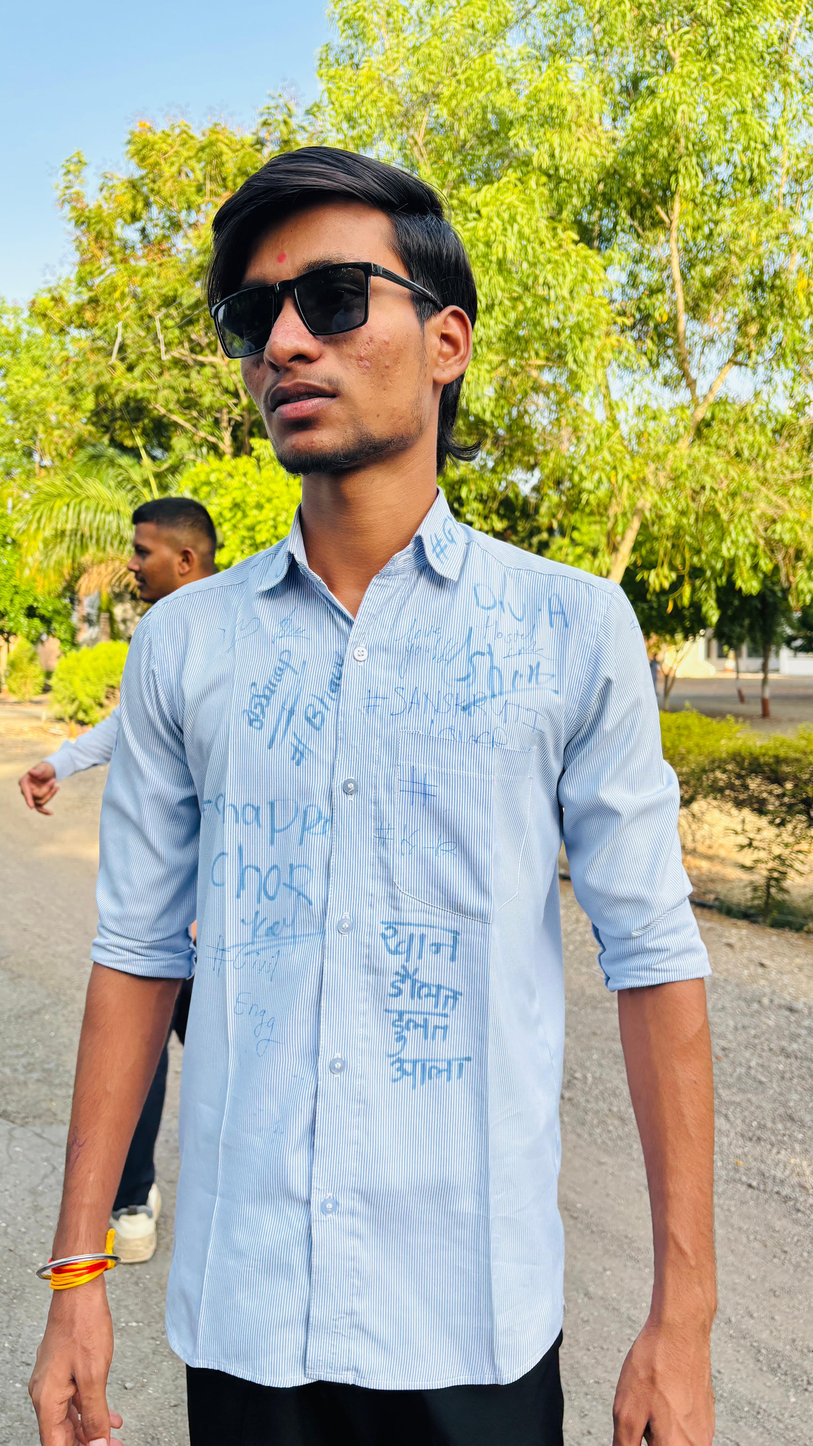papule: (384, 361, 395, 370), (384, 337, 393, 348), (289, 441, 297, 449), (359, 351, 366, 360), (311, 437, 316, 446)
